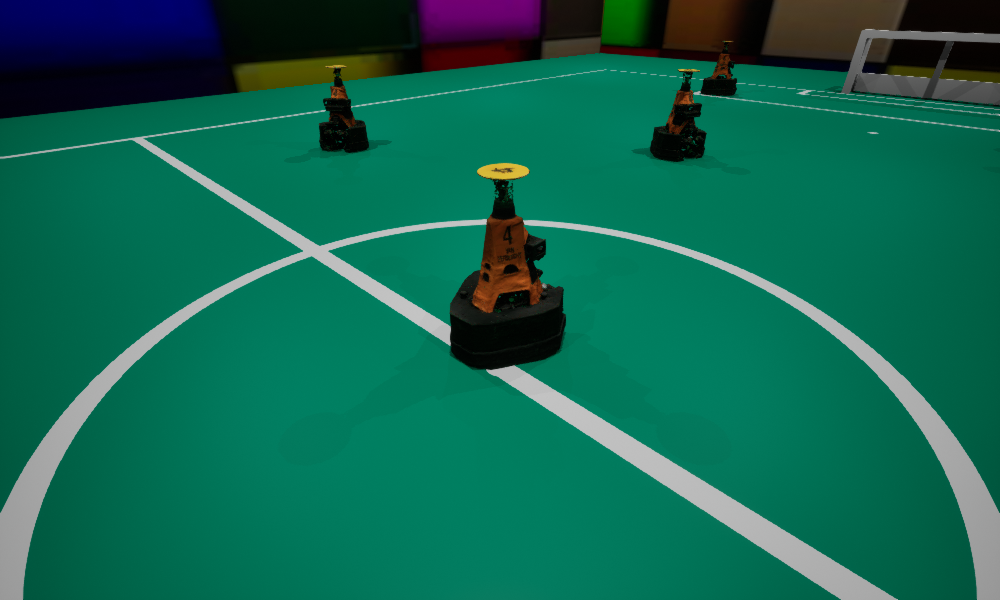o: (450, 163, 565, 369), (650, 69, 706, 161), (319, 65, 368, 151), (701, 41, 736, 95)
